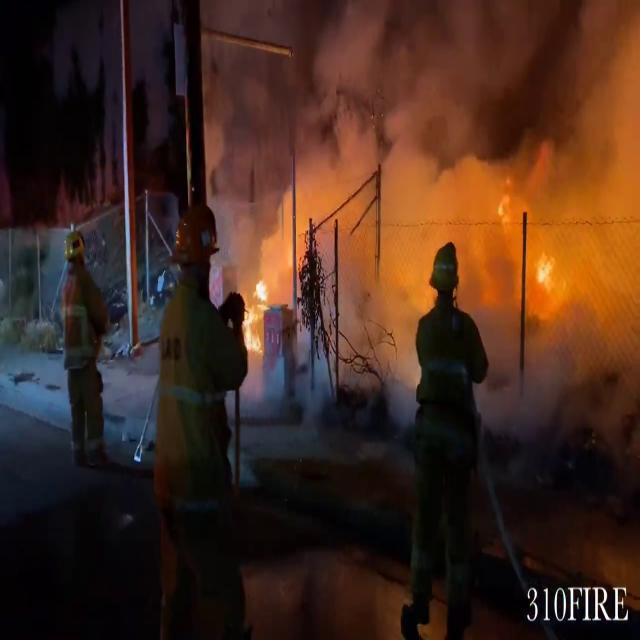Fire: (240, 270, 274, 356)
Smoke: (205, 0, 640, 340)
